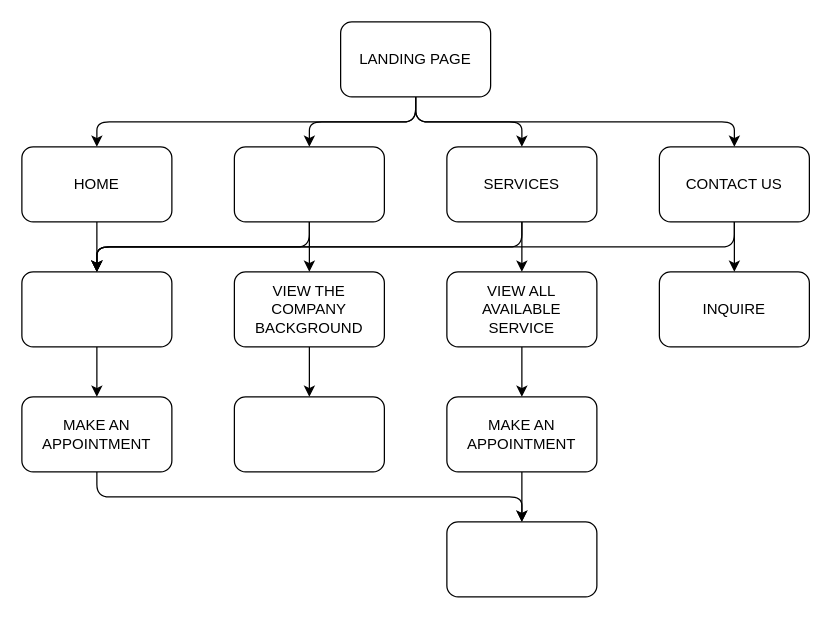
This 831x619 diagram has some shape labels left out. The shapes that lost their labels are listed below. From the top down, each one's box as (x1, y1, x2, y2) in pixels, then its label:
(233, 146, 384, 222): ABOUT US
(21, 271, 172, 347): LOGIN OR REGISTER
(233, 396, 384, 472): VIEW DOCTORS CREDENTIALS
(446, 521, 597, 597): GIVE FEEDBACK
